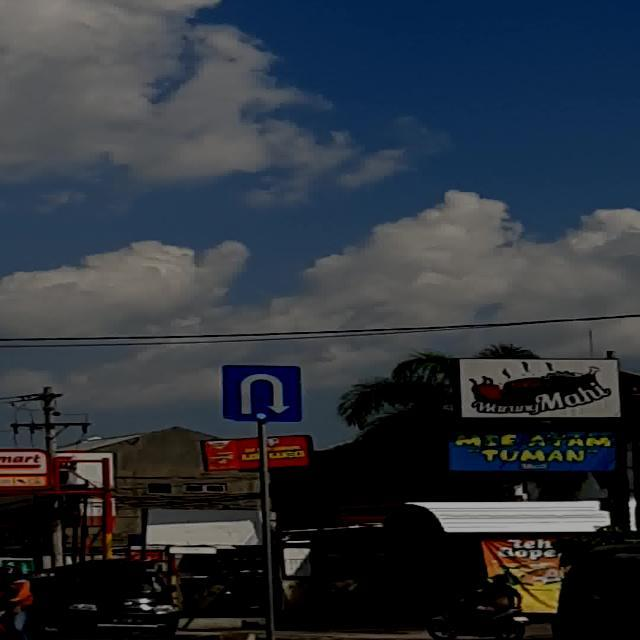Putar Balik: (222, 365, 302, 422)
